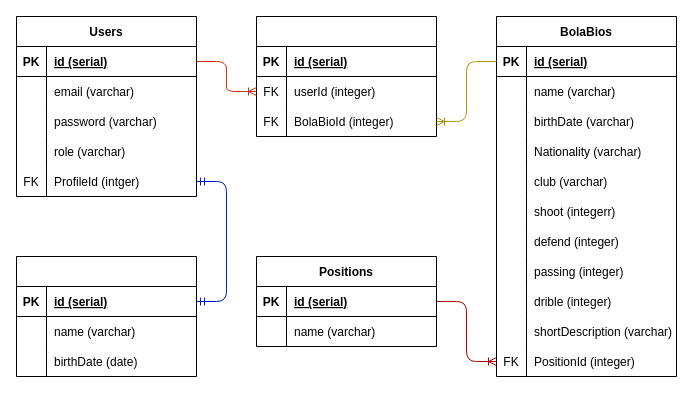
Image size: 693x393. Some labels were removed from this diagram. Here are the shapes that lost their labels. From the top down, the box of each, then its label:
(256, 16, 436, 136): Likes
(16, 256, 196, 376): Profiles
